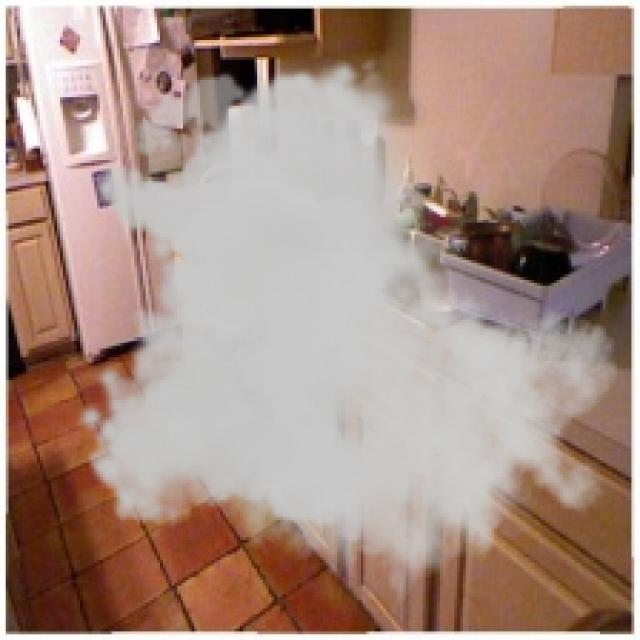smoke: (74, 57, 620, 623)
